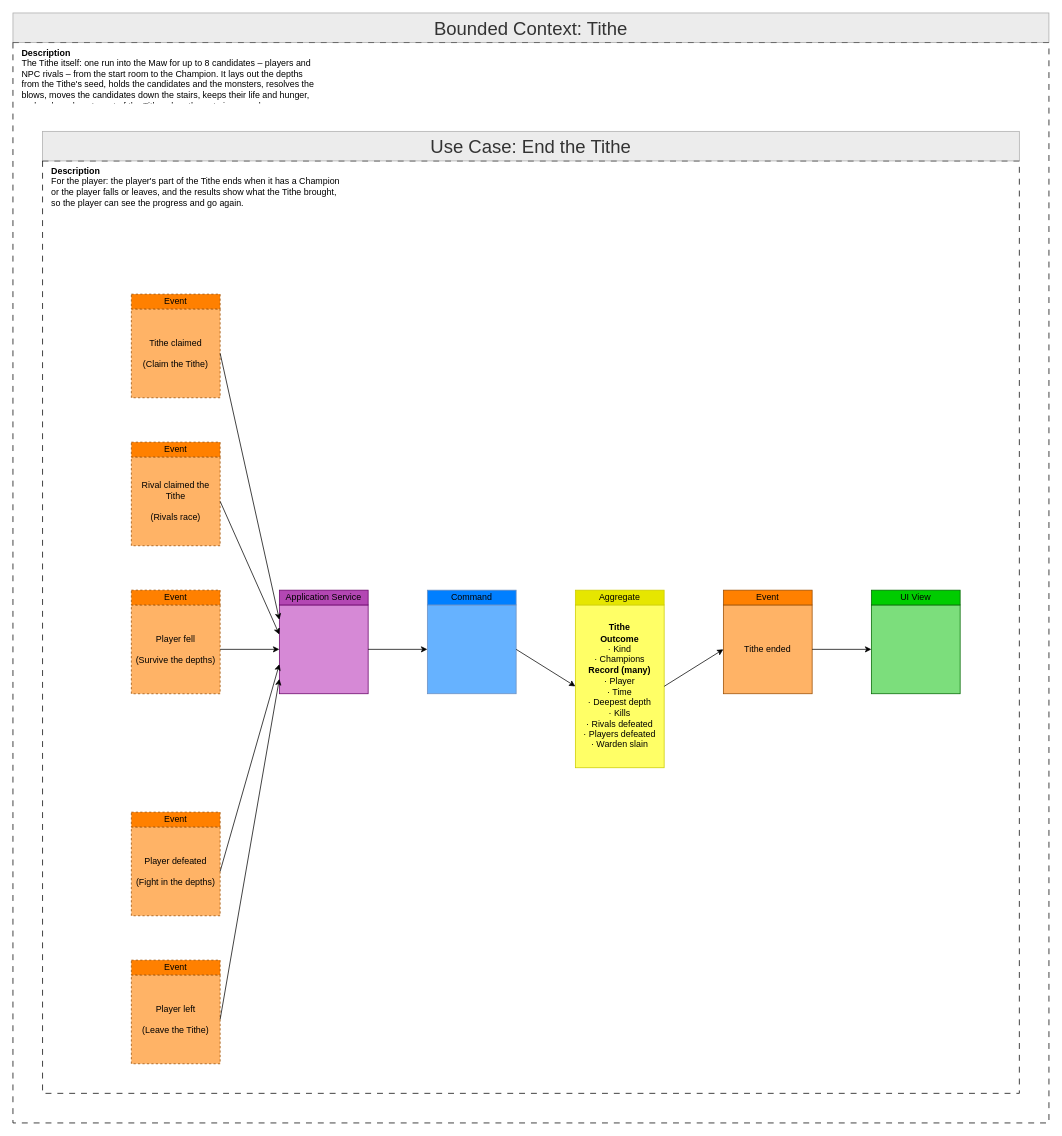
The diagram is 1062 pixels wide and 1136 high, and some of its shapes have lost their labels. Each missing label, with the box of its shape:
End the Tithe Player Outcome: (427, 604, 516, 694)
Tithe referee: (279, 604, 368, 694)
Tithe results Player: (871, 604, 960, 694)
